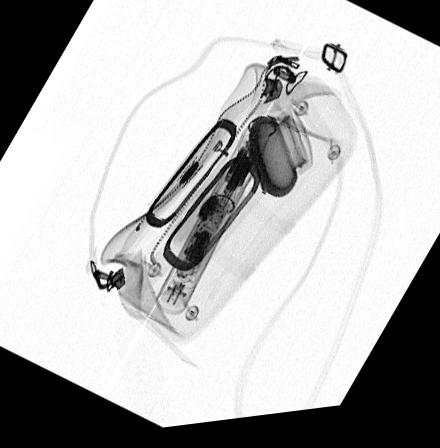Baton: (152, 130, 271, 319)
